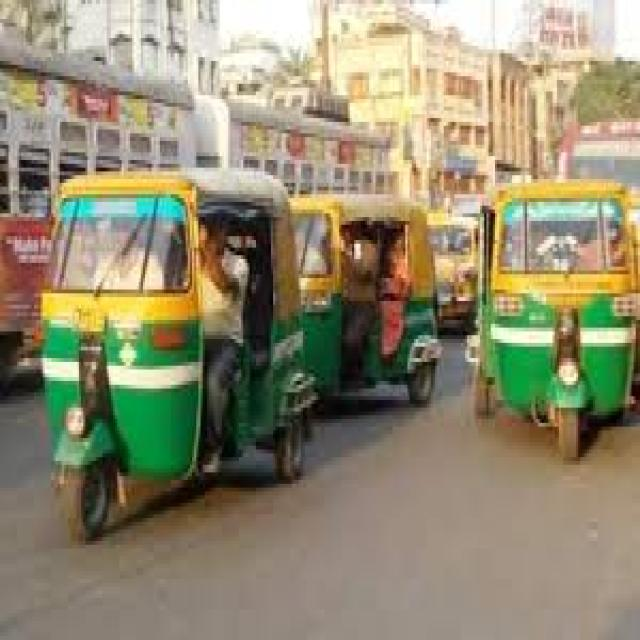bus: (0, 34, 194, 381), (228, 103, 390, 194)
car: (429, 217, 476, 335)
person: (201, 225, 247, 446)
three wheeler: (43, 171, 311, 541), (478, 187, 634, 461), (290, 194, 439, 404)
